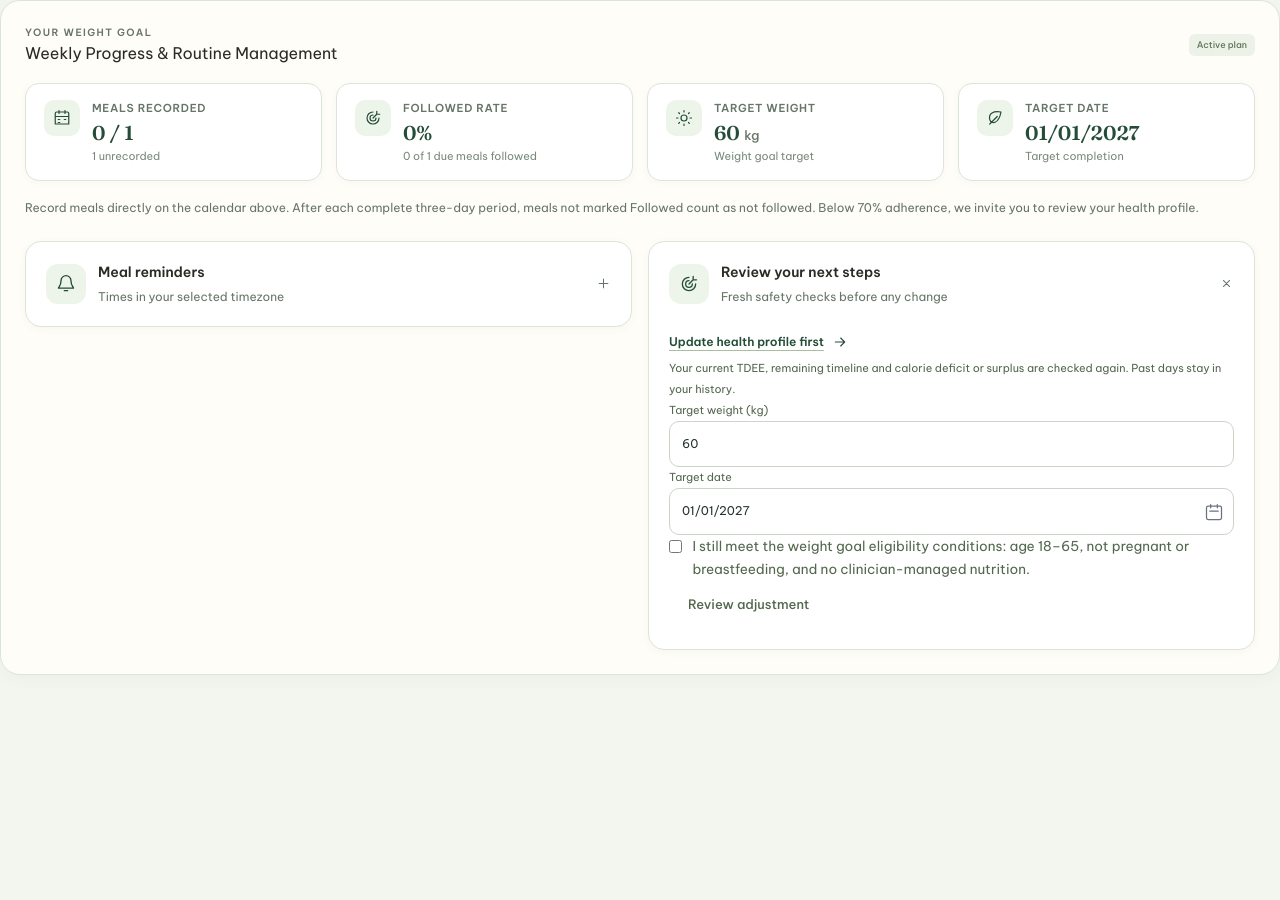
Test: allowed reassessment displays proposal facts and confirms a new version
This screenshot has width=1280, height=900.
Later steps or results of the test are not shown.
Click the checkbox.
click(676, 546)  # box 669,540 -> 682,553
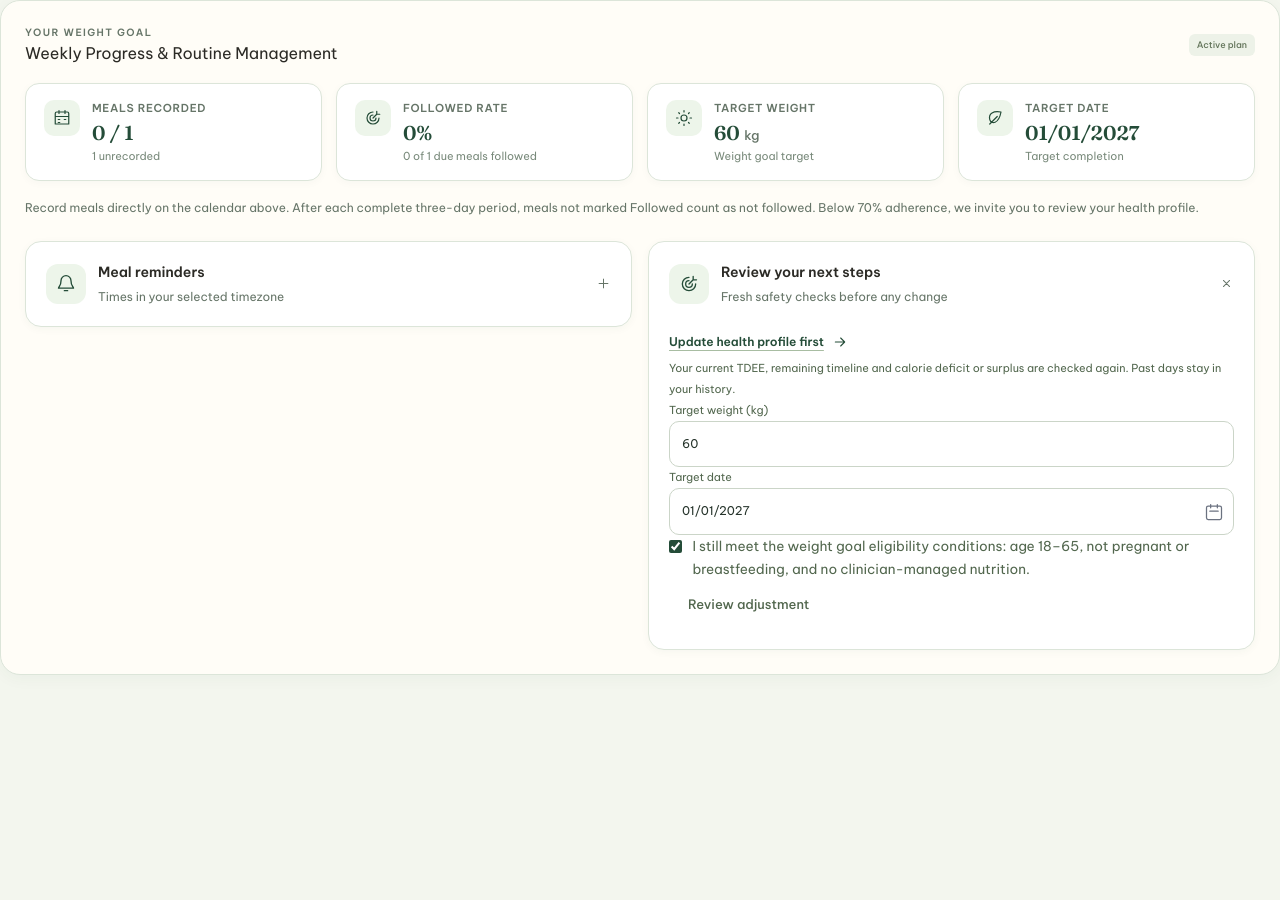
Click the button "Review adjustment".
click(749, 604)  # box 669,580 -> 828,629
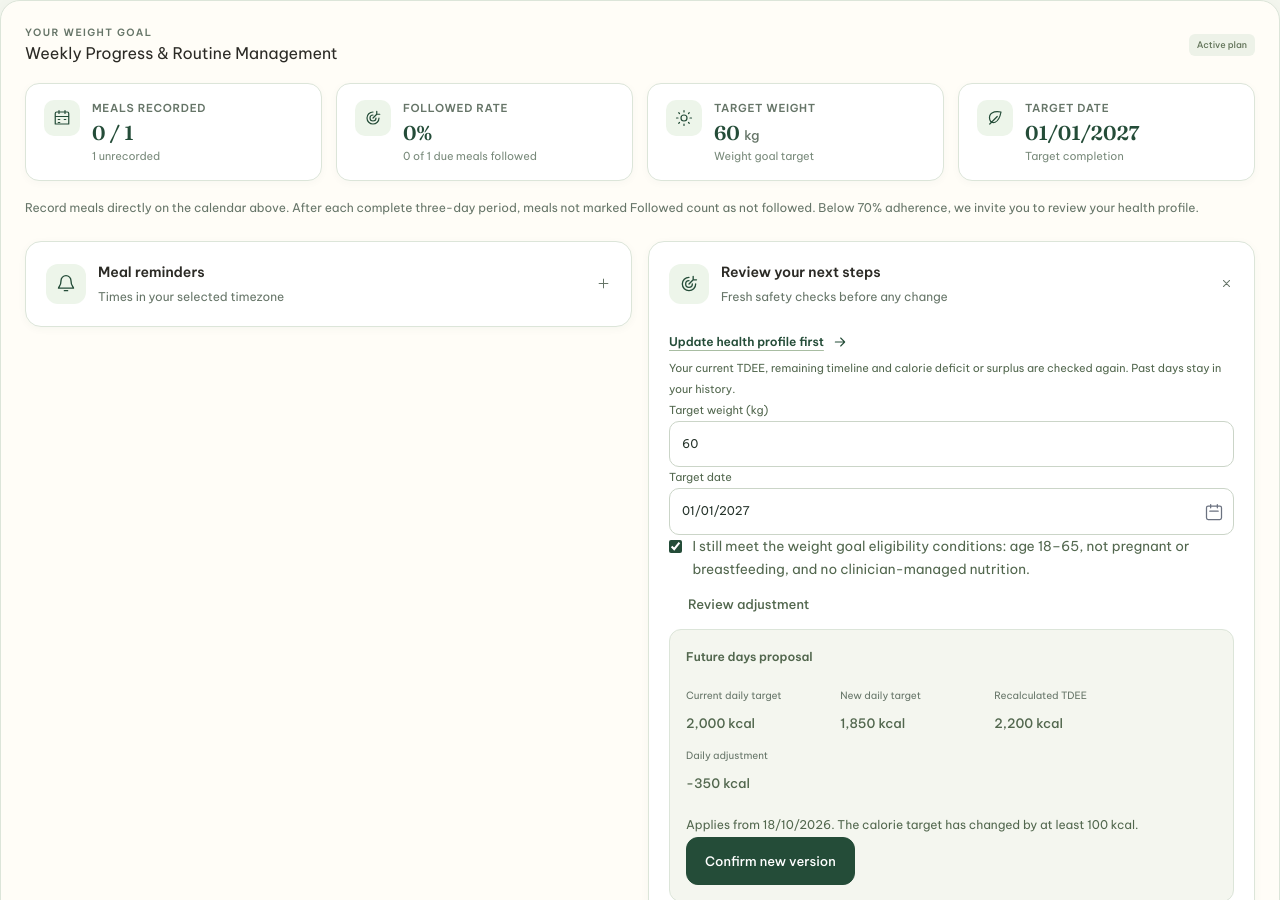
Result: the text "1,850 kcal" is shown at 840,716 -> 905,732
Result: the text "2,200 kcal" is shown at 994,716 -> 1063,732
Result: the button "Confirm new version" is enabled at 686,837 -> 855,885
